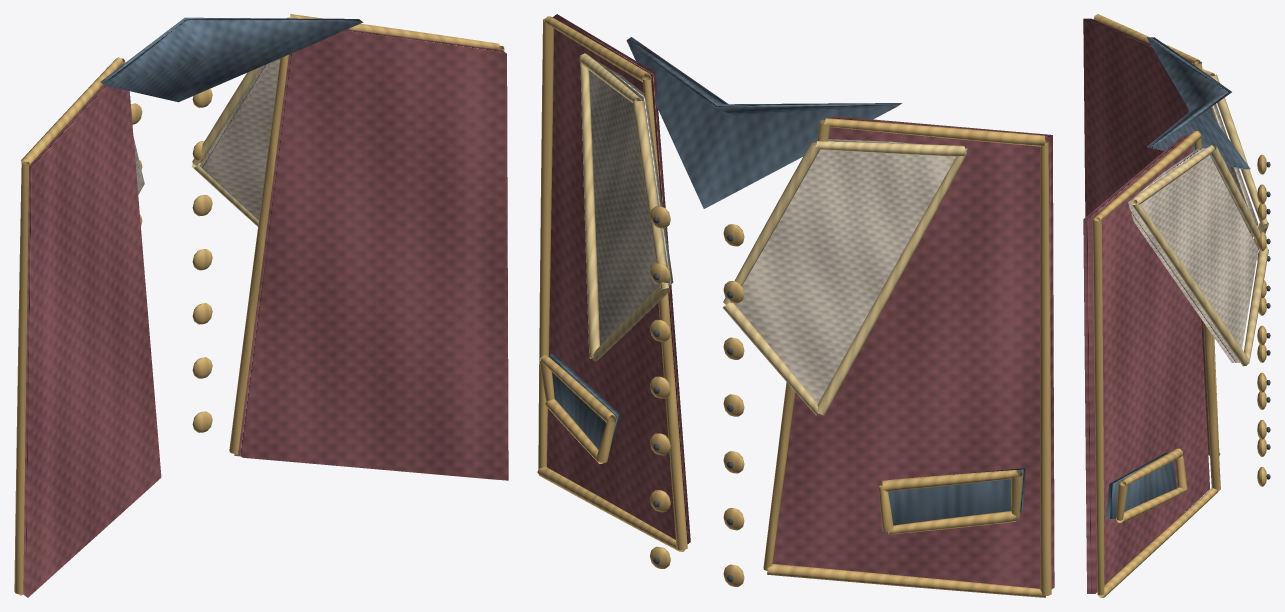
Rendered from outfit_coat.glb.
3 views of the same model, side by side, from view 1: azimuth 30°, elevation 25°; view 2: azimuth 150°, elevation 25°; view 3: azimuth 270°, elevation 25° (orthographic). The views are drawn at different scales.
Visible parts, largest first — view 1: outfit_coat; view 2: outfit_coat; view 3: outfit_coat.
Part boxes in pixels (<box>): outfit_coat: <box>14,14,508,597</box>; outfit_coat: <box>537,14,1054,597</box>; outfit_coat: <box>1083,14,1270,597</box>.
Size of the model in its own units: 1.32 by 1.2 by 0.5049.
6 materials, 6 textured.
